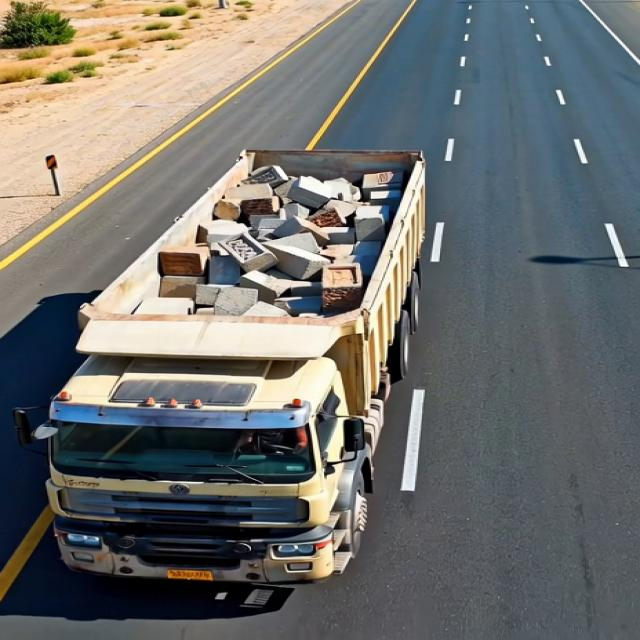Box: (75, 143, 431, 359)
Truck: (39, 139, 459, 596)
